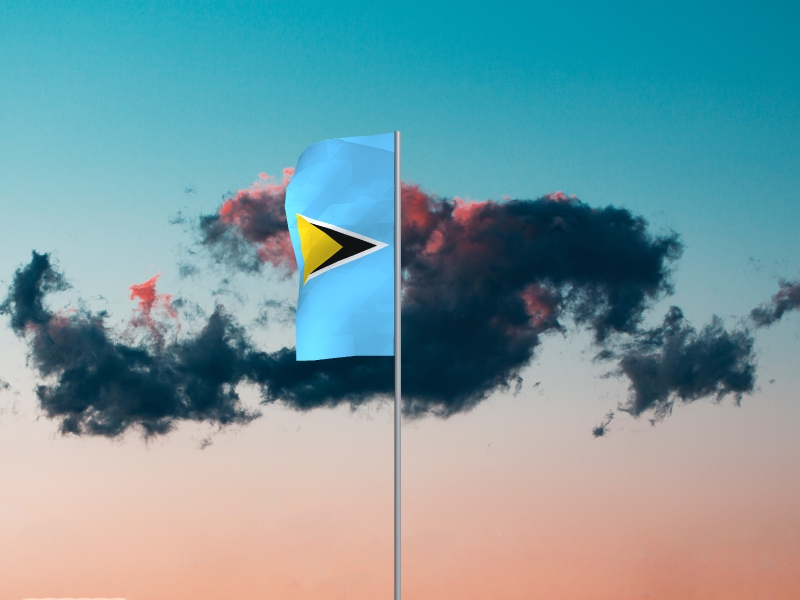lc: (285, 133, 395, 362)
